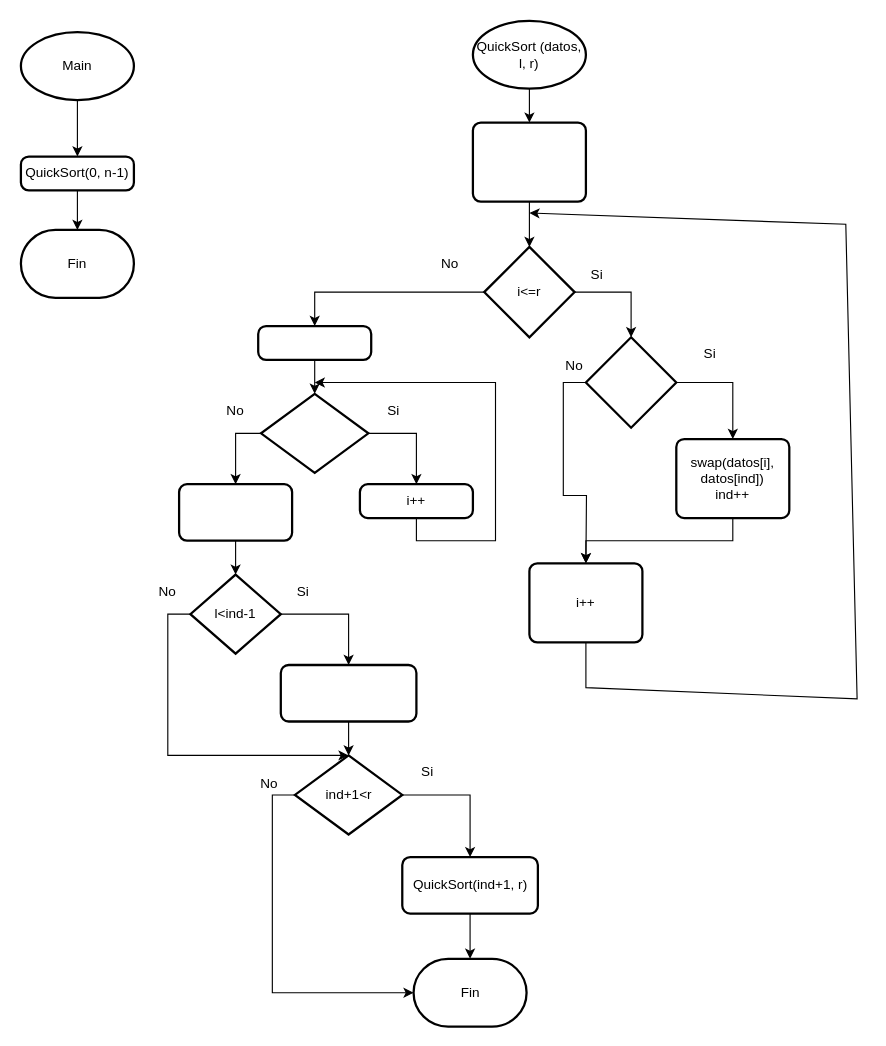
The diagram is 886 pixels wide and 1046 high, and some of its shapes have lost their labels. The shapes that lost their labels are listed below. From the top down, each one's centre as x and y in pixels, then its label:
At pixel 528 161: "m=(l+r)/2 val=datos[m] ind=l i=l".
At pixel 314 342: "i=ind".
At pixel 630 382: "datos[i]<val".
At pixel 314 432: "datos[i]!=val".
At pixel 235 512: "swap(datos[i], datos[ind])".
At pixel 348 692: "QuickSort(l, ind-1)".
